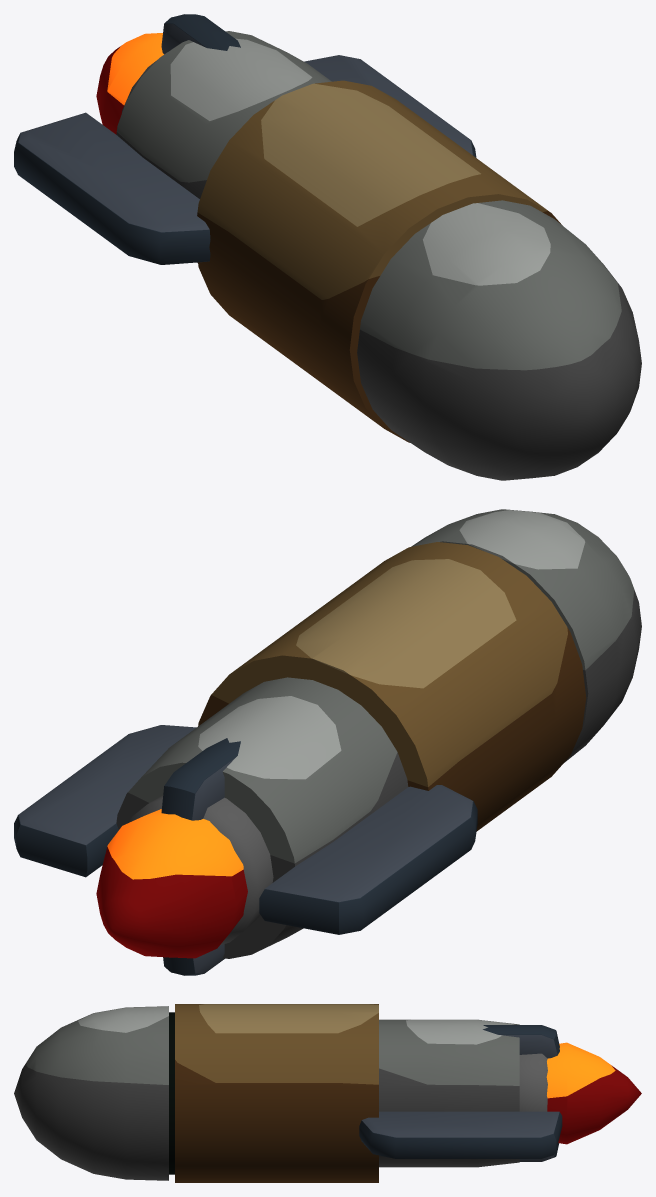
File: slot_rocket_57.glb
3 views of the same model, one above another, from view 1: azimuth 30°, elevation 25°; view 2: azimuth 150°, elevation 25°; view 3: azimuth 270°, elevation 25° (orthographic). The views are drawn at different scales.
Parts seen in each view (by area): view 1: slot_rocket_57; view 2: slot_rocket_57; view 3: slot_rocket_57.
Boxes of the visible parts, x1=… form: slot_rocket_57: x1=14, y1=14, x2=641, y2=480; slot_rocket_57: x1=14, y1=509, x2=641, y2=975; slot_rocket_57: x1=14, y1=1004, x2=641, y2=1182.
Size of the model in its own units: 6.5 by 4.4 by 15.4.
